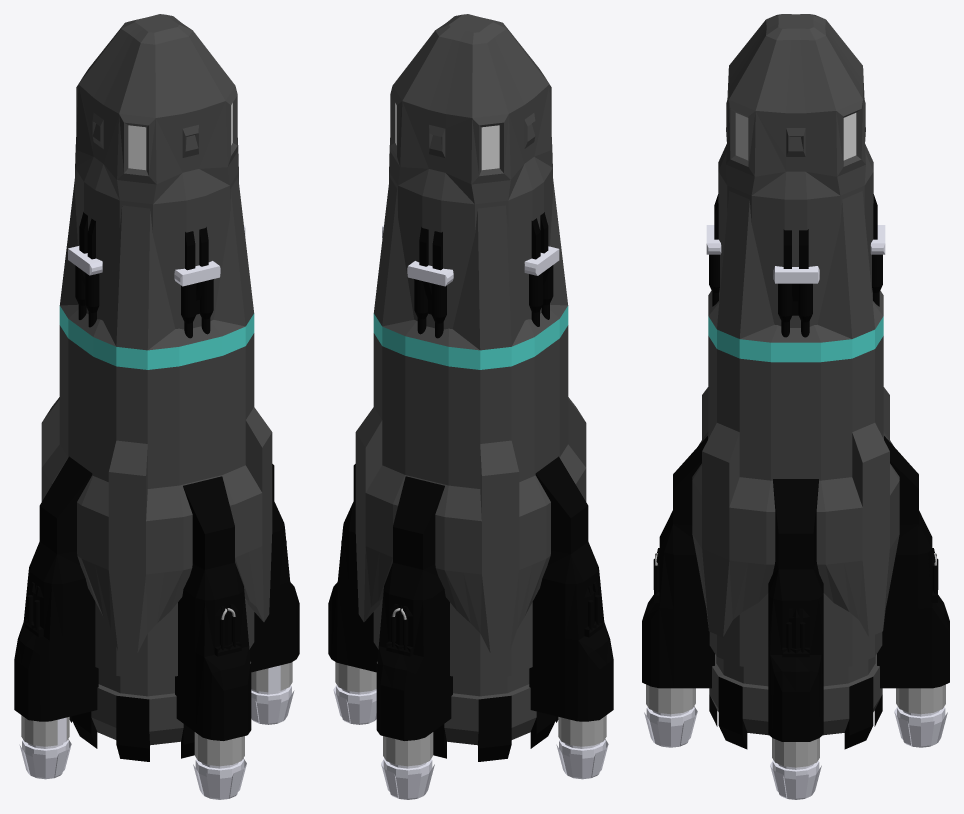
Rendered from SavitirII.gltf.
The picture shows the model from 3 angles, left to right: view 1: azimuth 30°, elevation 25°; view 2: azimuth 150°, elevation 25°; view 3: azimuth 270°, elevation 25°; orthographic projection.
Parts seen in each view (by area): view 1: Body, ThrusterPipe, ThrusterPipe2, CockpitPipes, CockpitPipes2; view 2: Body, ThrusterPipe, ThrusterPipe2, CockpitPipes, CockpitPipes2; view 3: Body, ThrusterPipe2, ThrusterPipe, CockpitPipes2, CockpitPipes.
Boxes of the visible parts, x1,y1,x2,y2 form: Body: [41, 14, 272, 761]; ThrusterPipe: [14, 456, 299, 779]; ThrusterPipe2: [175, 476, 251, 799]; CockpitPipes: [174, 227, 220, 338]; CockpitPipes2: [68, 212, 245, 327]; Body: [355, 14, 586, 761]; ThrusterPipe: [328, 456, 613, 779]; ThrusterPipe2: [376, 476, 452, 799]; CockpitPipes: [407, 227, 453, 338]; CockpitPipes2: [382, 212, 559, 326]; Body: [692, 14, 899, 749]; ThrusterPipe2: [642, 436, 949, 747]; ThrusterPipe: [768, 479, 823, 799]; CockpitPipes2: [773, 229, 819, 337]; CockpitPipes: [706, 194, 885, 306].
Bounding box in the file's own units: 22.22 × 56.57 × 21.96.
